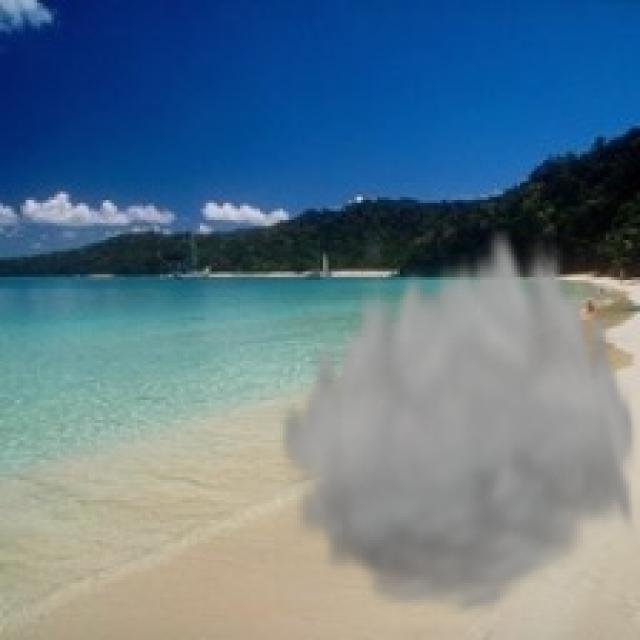smoke: (274, 214, 637, 626)
